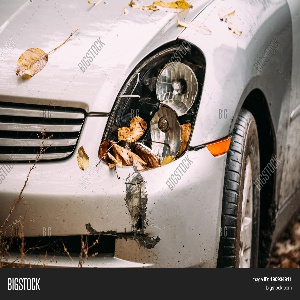bumper_scratch: (78, 177, 180, 254)
head_lights: (98, 33, 202, 174)
